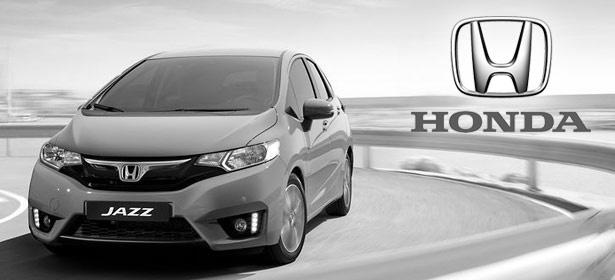Car hood: (46, 113, 283, 160)
Fender - -F-L-: (248, 95, 313, 234)
Front bumper: (25, 157, 288, 255)
Headlight - -L-: (190, 134, 283, 173)
Headlight - -R-: (36, 138, 88, 173)
Passenger-s door - -F-L-: (288, 53, 330, 220)
Passenger-s door - -R-L-: (310, 56, 347, 204)
Side bumper - -L-: (305, 188, 348, 225)
Side mirror - -L-: (293, 95, 338, 133)
